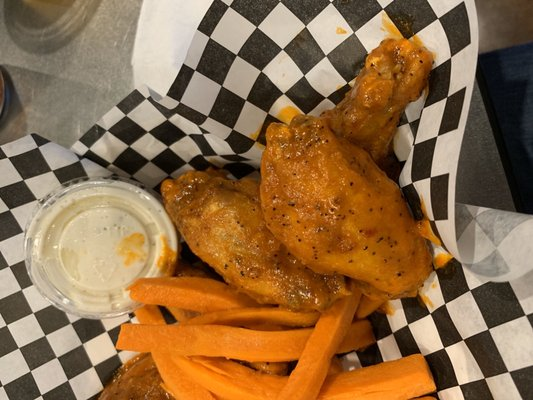sushi: (24, 178, 179, 324)
